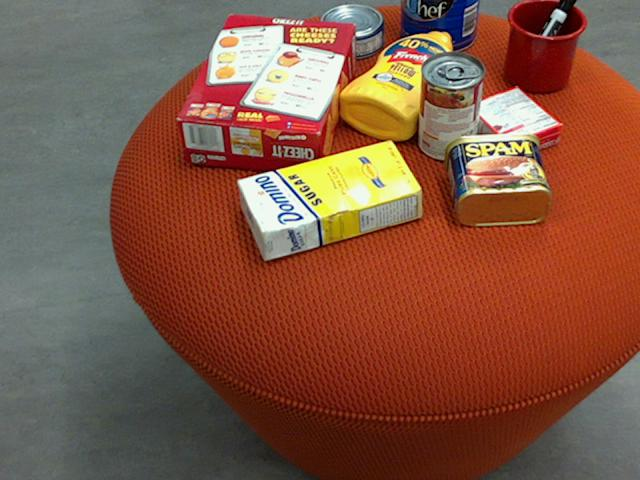cracker_box: (174, 13, 356, 175)
gelatin_box: (466, 87, 563, 160)
large_marker: (514, 0, 575, 81)
master_chef_can: (400, 0, 479, 52)
mug: (504, 0, 587, 91)
mustard_bottle: (338, 31, 456, 140)
potted_meat_can: (443, 131, 550, 225)
sugar_box: (235, 138, 423, 261)
tomato_soup_can: (418, 50, 483, 160)
tuna_fish_can: (318, 3, 384, 56)
